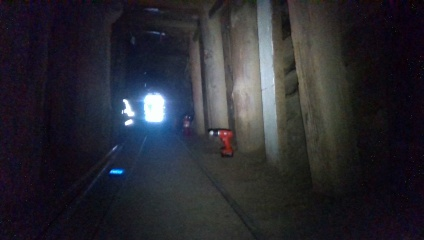drill: (209, 128, 235, 159)
fire_extinguisher: (179, 111, 194, 136)
manikin: (119, 92, 138, 130)
